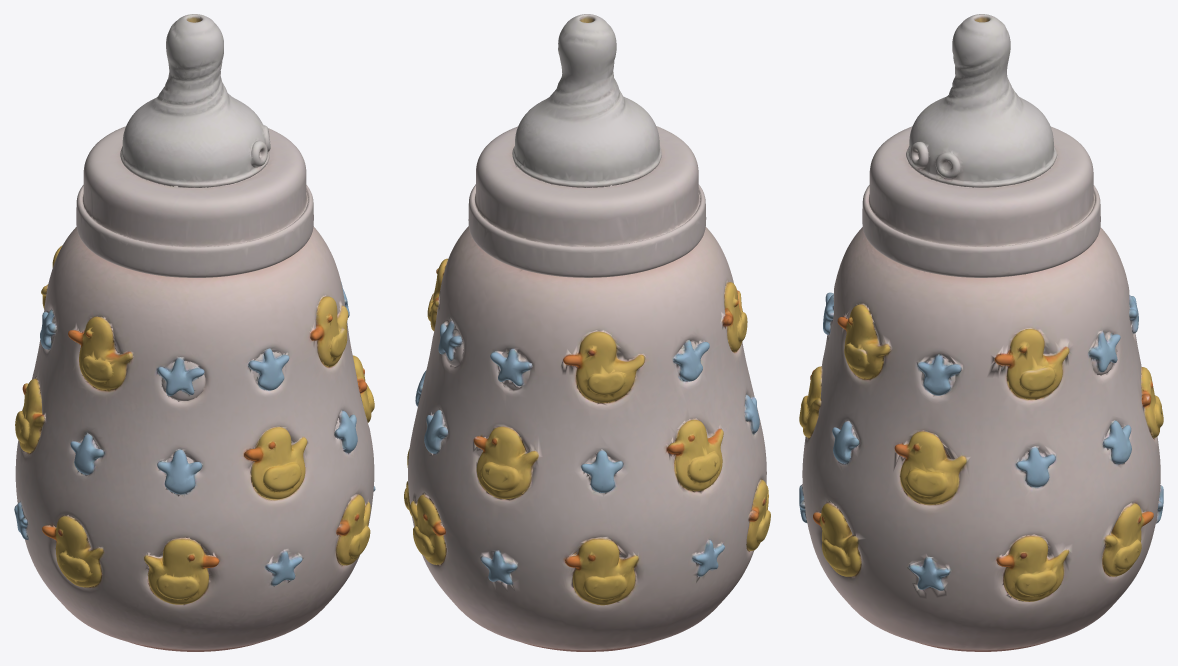
3 views of the same model, side by side, from view 1: azimuth 30°, elevation 25°; view 2: azimuth 150°, elevation 25°; view 3: azimuth 270°, elevation 25° (orthographic).
Visible parts, largest first — view 1: tripo_node_c2540f29-0bc4-4145-b7b7-de57f74d9c92; view 2: tripo_node_c2540f29-0bc4-4145-b7b7-de57f74d9c92; view 3: tripo_node_c2540f29-0bc4-4145-b7b7-de57f74d9c92.
Boxes of the visible parts, x1=… form: tripo_node_c2540f29-0bc4-4145-b7b7-de57f74d9c92: x1=14, y1=14, x2=375, y2=651; tripo_node_c2540f29-0bc4-4145-b7b7-de57f74d9c92: x1=404, y1=14, x2=770, y2=651; tripo_node_c2540f29-0bc4-4145-b7b7-de57f74d9c92: x1=799, y1=14, x2=1163, y2=651.
Bounding box in the file's own units: 0.5546 × 0.9792 × 0.5476.
Materials: 1 (1 with a texture image).
